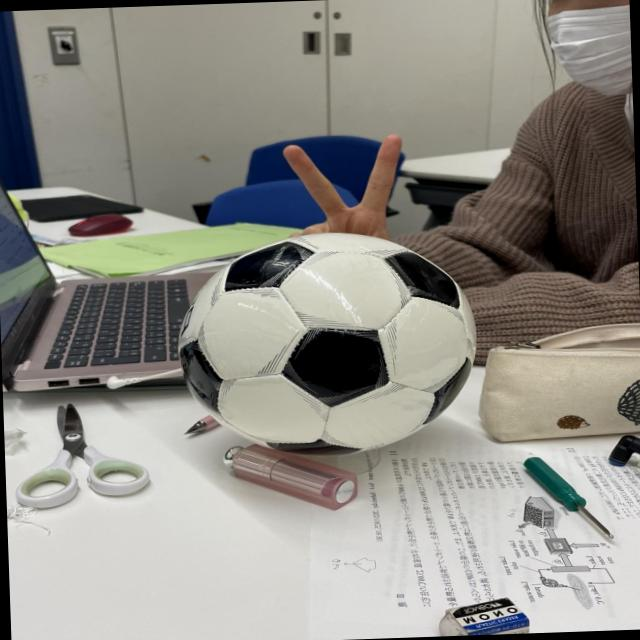Soccer Ball: (170, 227, 480, 464)
